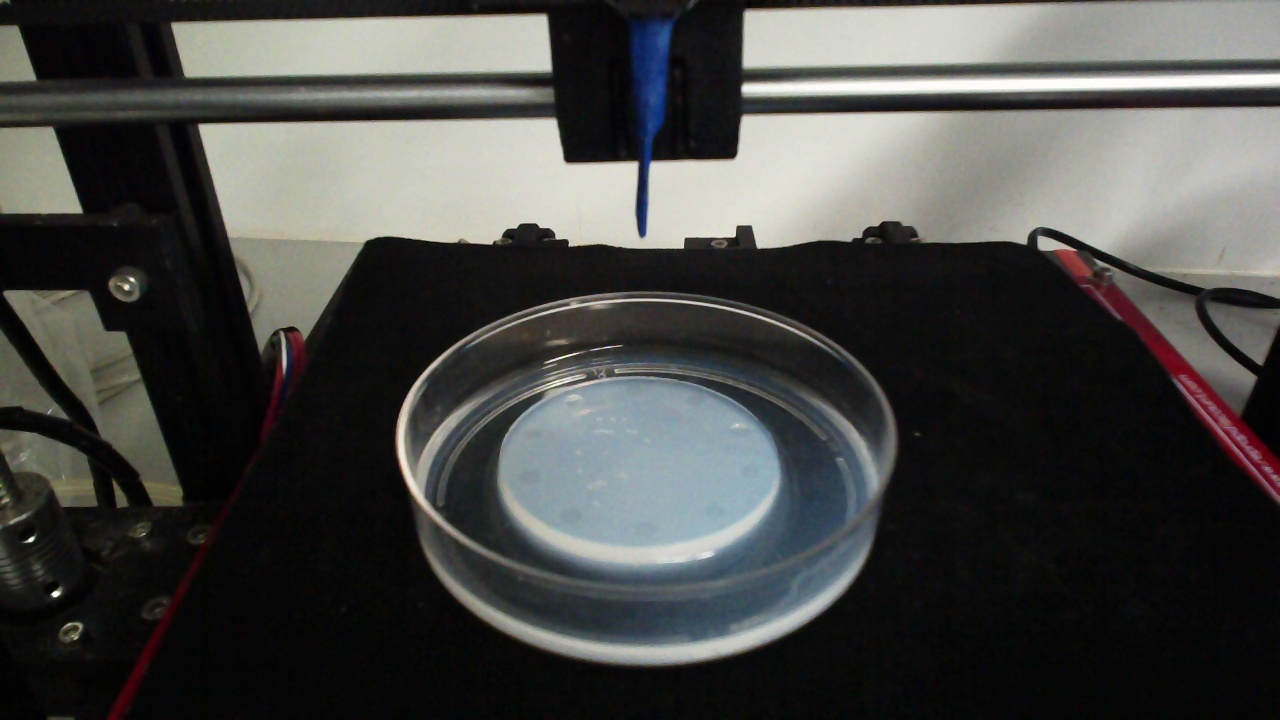groove: (737, 461, 764, 481), (557, 506, 585, 525), (630, 520, 658, 538), (521, 424, 547, 442), (728, 422, 755, 439), (517, 468, 542, 486), (562, 392, 585, 410), (701, 503, 725, 520), (682, 392, 705, 408), (623, 383, 646, 397)
needle: (633, 20, 670, 237)
